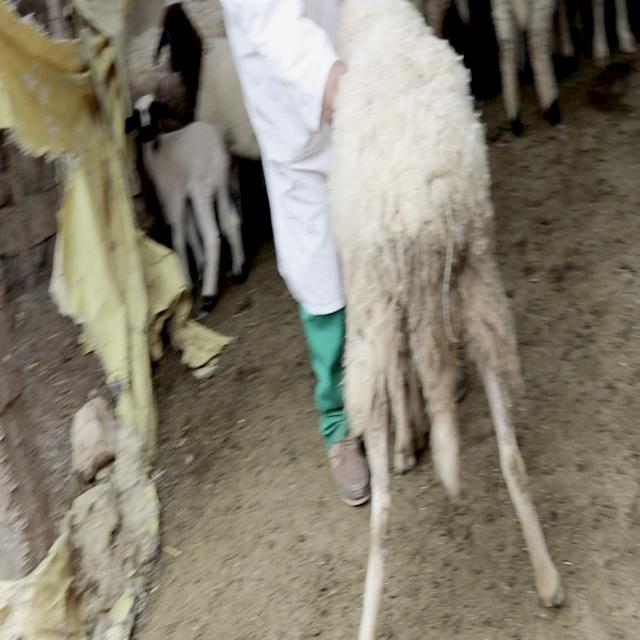Score_2: (328, 0, 564, 639)
